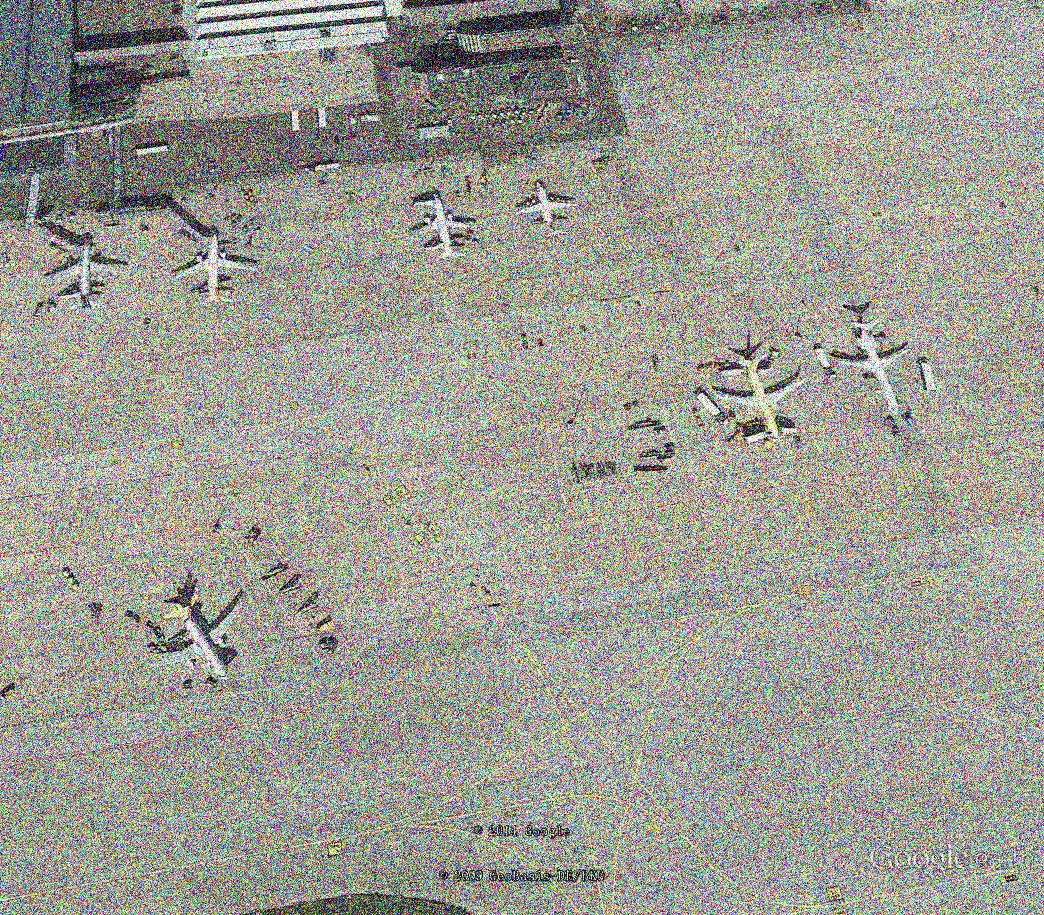aircraft: (825, 316, 922, 424), (145, 592, 247, 688), (711, 352, 813, 447), (165, 229, 262, 312), (39, 235, 130, 310), (406, 190, 480, 267), (510, 175, 577, 246)
